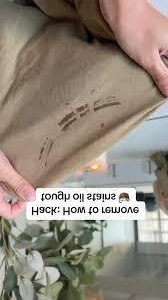oil: (59, 104, 87, 134), (89, 95, 123, 118), (36, 136, 58, 166)
